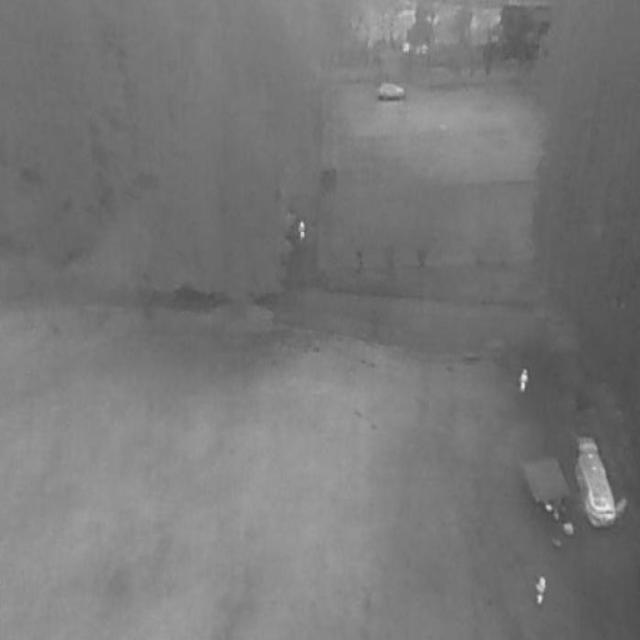person: (535, 577, 547, 606), (520, 370, 530, 395), (298, 222, 307, 242)
